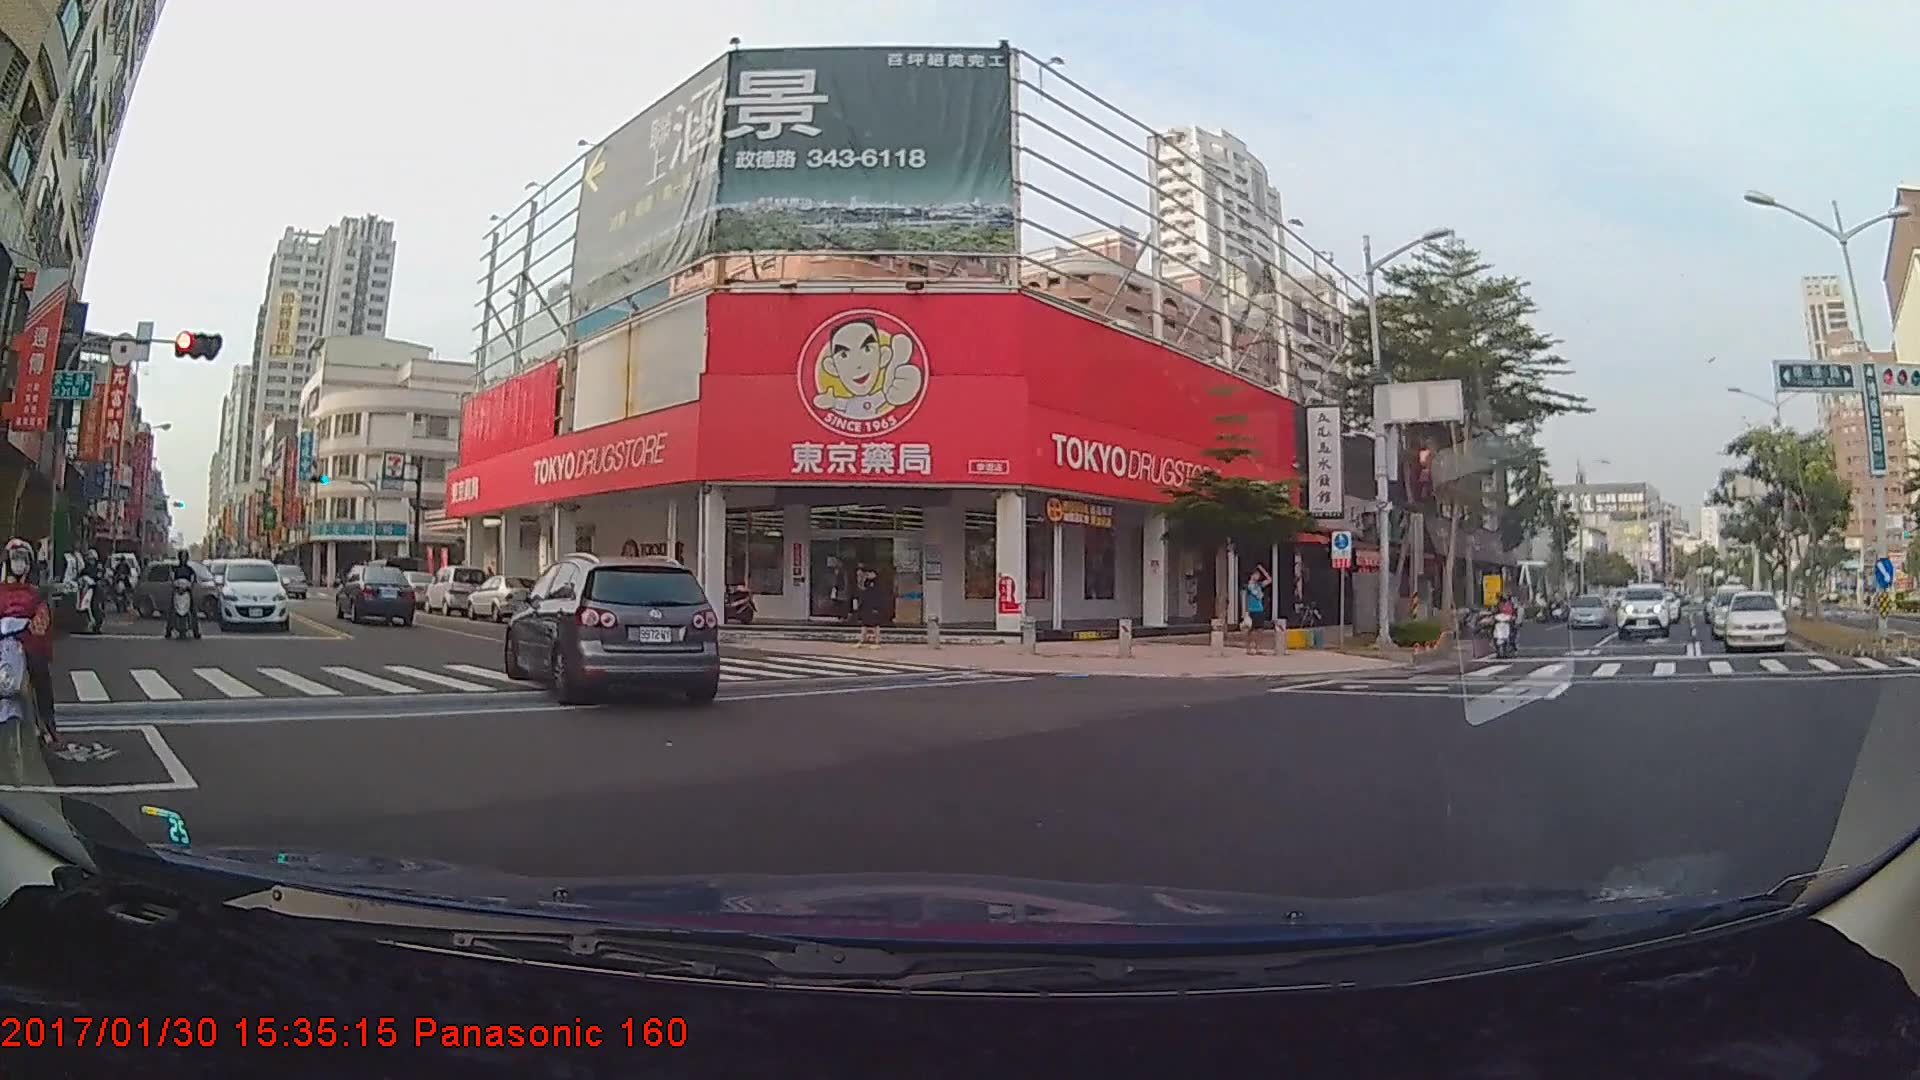pedestrian: (852, 563, 895, 651), (1240, 562, 1274, 659)
rider: (162, 551, 206, 645), (67, 545, 111, 632), (1488, 588, 1526, 656)
vehicle: (506, 551, 720, 706), (214, 556, 290, 631), (133, 558, 229, 617), (336, 562, 415, 626), (464, 571, 549, 621), (1727, 592, 1785, 652), (422, 562, 486, 615), (1710, 584, 1771, 639), (1615, 581, 1671, 638), (1567, 592, 1608, 629)
